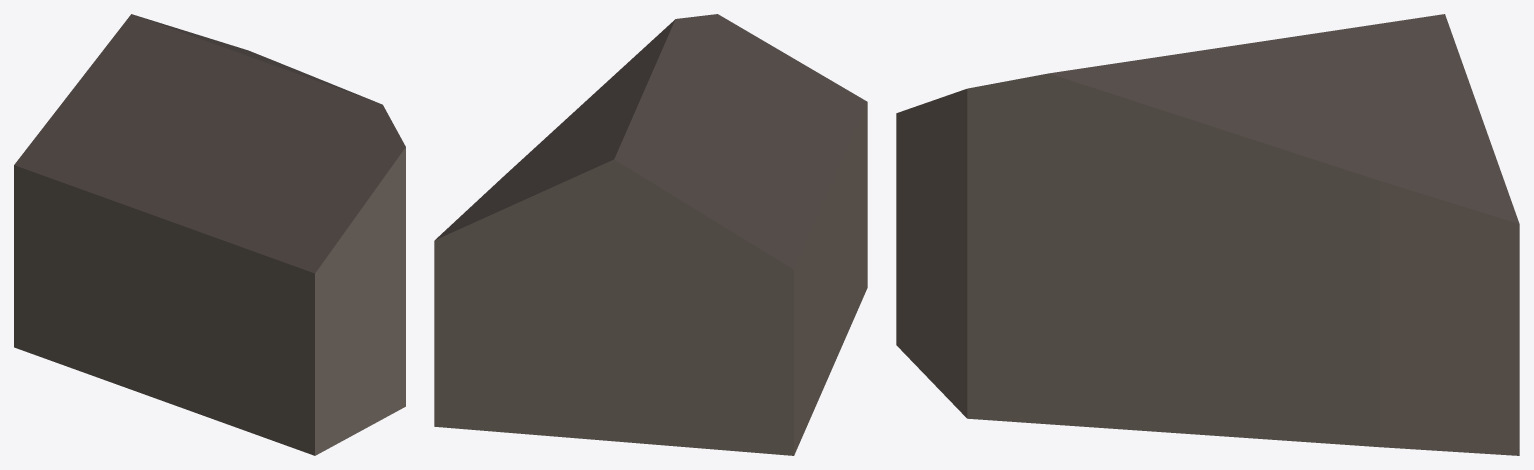
The picture shows the model from 3 angles, left to right: view 1: azimuth 30°, elevation 25°; view 2: azimuth 150°, elevation 25°; view 3: azimuth 270°, elevation 25°; orthographic projection. The views are drawn at different scales.
Parts seen in each view (by area): view 1: HP-w1198845824; view 2: HP-w1198845824; view 3: HP-w1198845824.
Part boxes in pixels (bbox=[...]): HP-w1198845824: bbox=[14, 14, 405, 455]; HP-w1198845824: bbox=[434, 14, 867, 455]; HP-w1198845824: bbox=[896, 14, 1519, 455].
Size of the model in its own units: 10.1 by 9.09 by 14.62.
